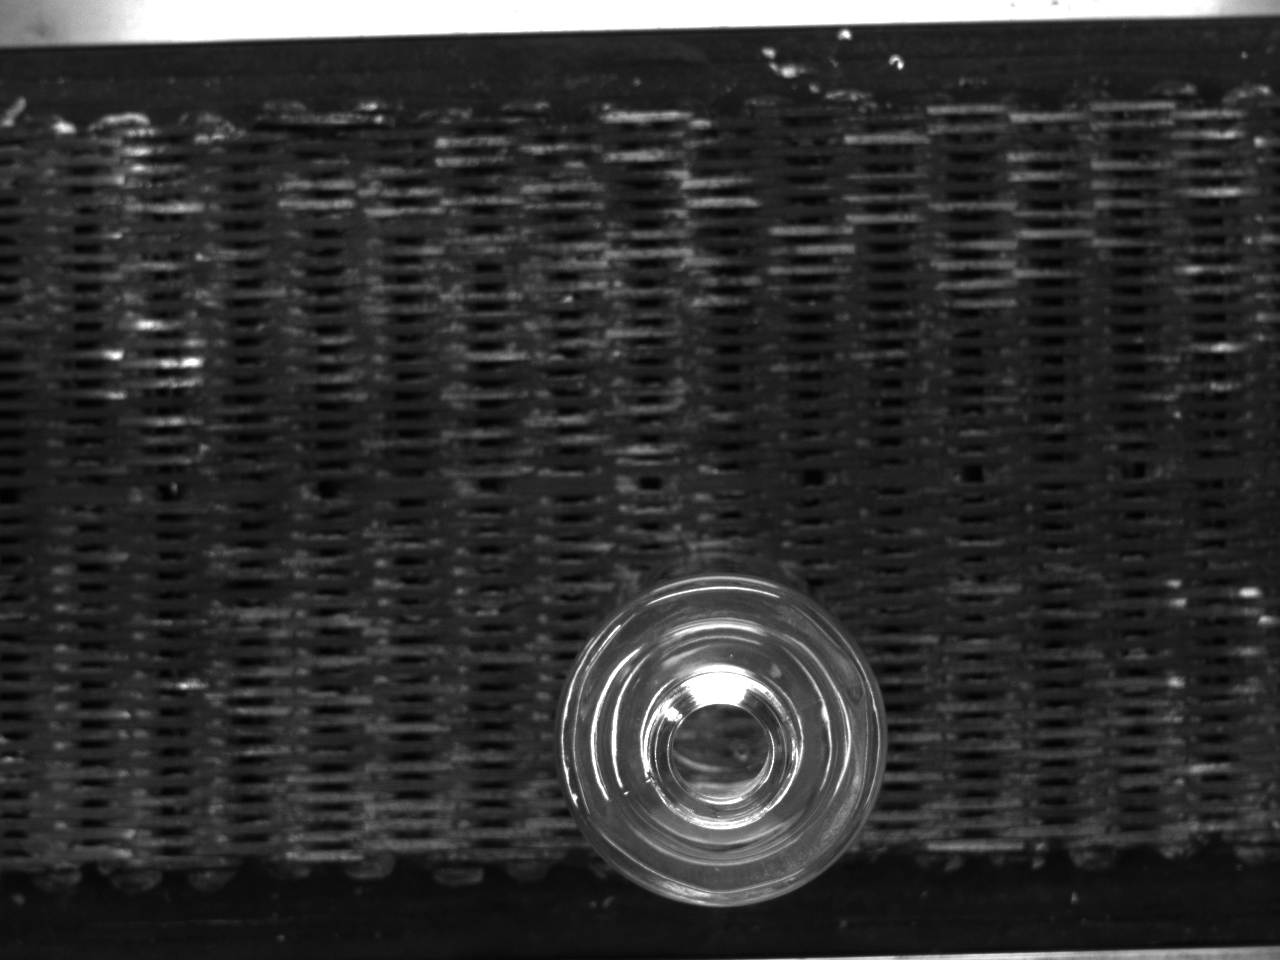bottleneck: (644, 667, 802, 831)
